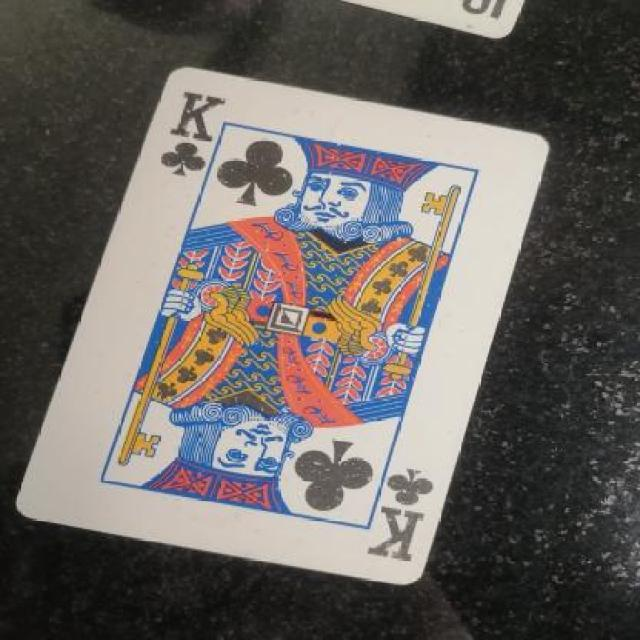KC: (365, 462, 449, 581), (133, 90, 249, 173)
